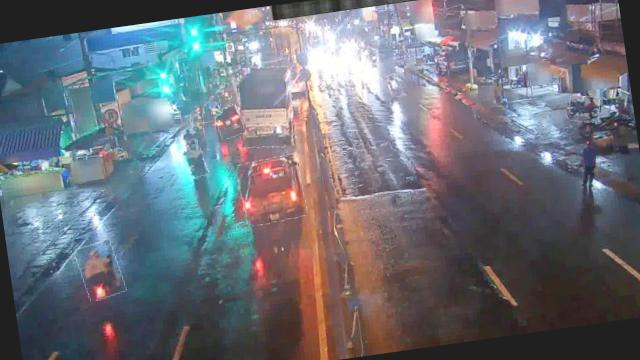Bike: (74, 238, 124, 300), (566, 92, 601, 124), (182, 146, 207, 179), (385, 72, 402, 98), (189, 112, 205, 137), (182, 129, 198, 153), (208, 96, 221, 115)
Car: (236, 154, 306, 226), (213, 105, 244, 140)
Truck: (232, 62, 299, 152)
